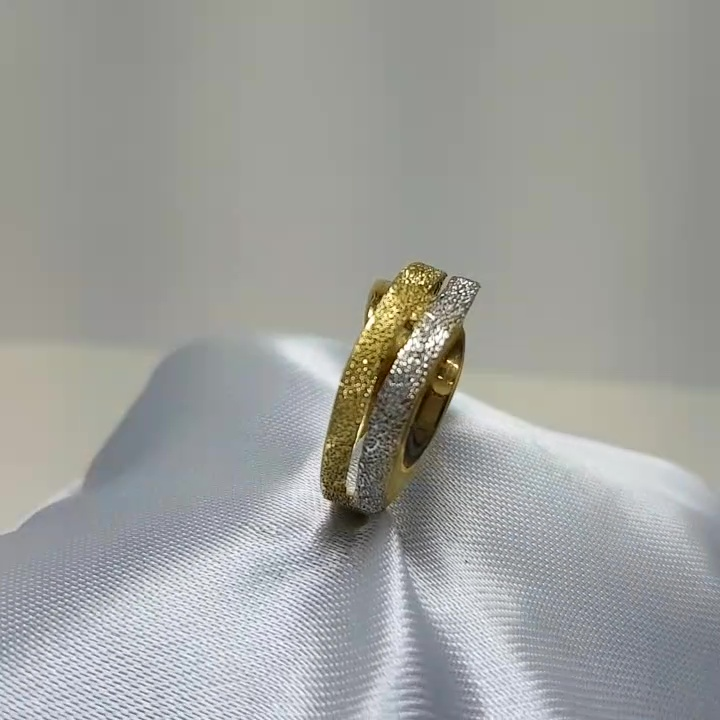Ring 5: (282, 243, 514, 531)
